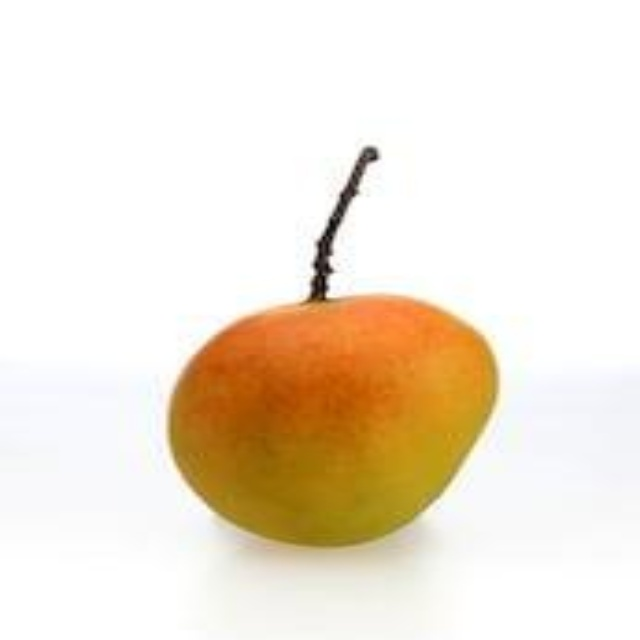mango: (170, 293, 512, 556)
